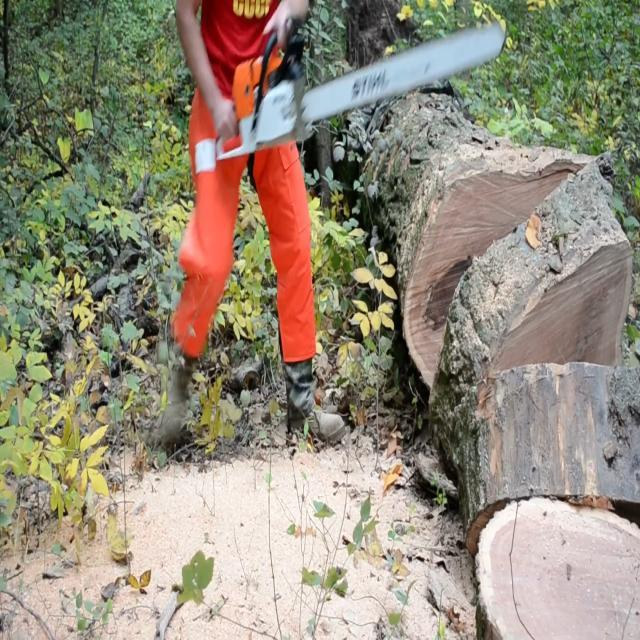Chainsaw: (176, 0, 532, 169)
